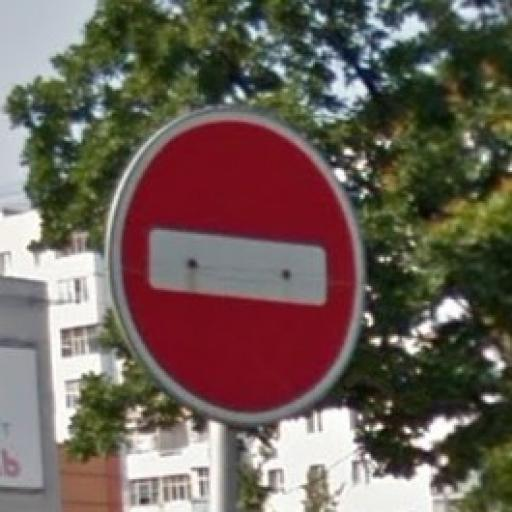traffic_sign: (107, 103, 366, 430)
